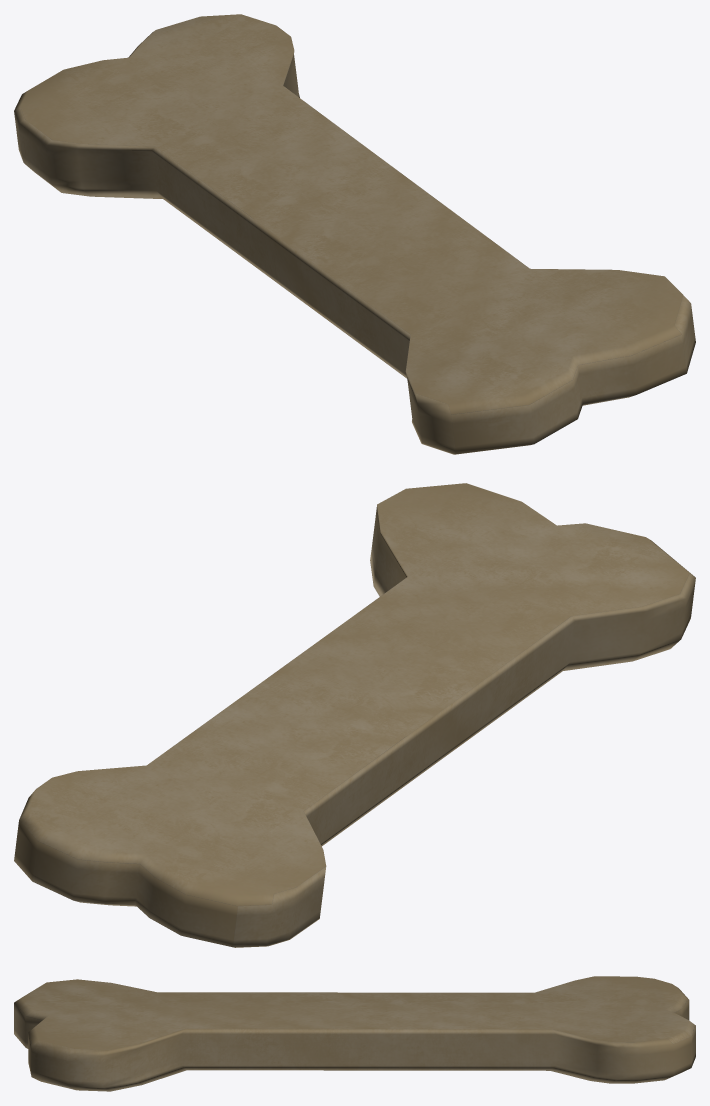
Rendered from dogTreatLD.fbx.
The picture shows the model from 3 angles, top to bottom: view 1: azimuth 30°, elevation 25°; view 2: azimuth 150°, elevation 25°; view 3: azimuth 270°, elevation 25°; orthographic projection. The views are drawn at different scales.
Visible parts, largest first — view 1: pPlane1; view 2: pPlane1; view 3: pPlane1.
Part boxes in pixels (x1=…): pPlane1: x1=14, y1=14, x2=695, y2=454; pPlane1: x1=14, y1=483, x2=695, y2=947; pPlane1: x1=14, y1=976, x2=695, y2=1091.
Size of the model in its own units: 7.85 by 2.32 by 21.55.
Materials: 1 (1 with a texture image).
